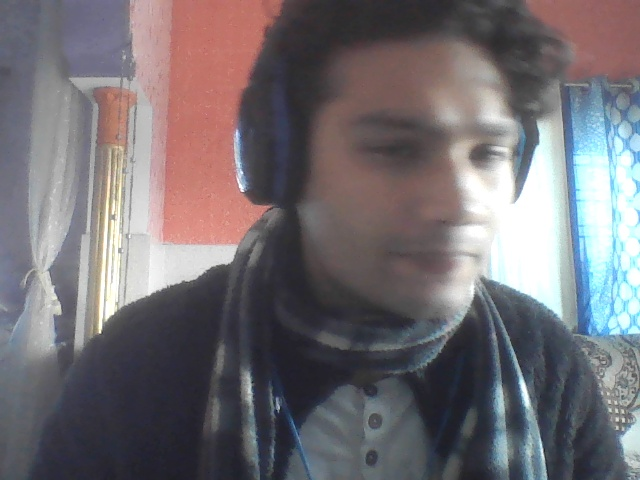real: (275, 0, 539, 374)
